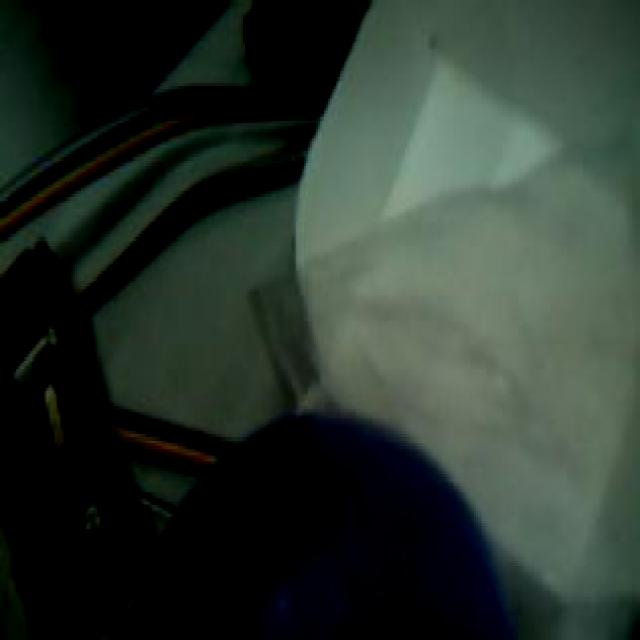BallPurple: (136, 410, 513, 640)
